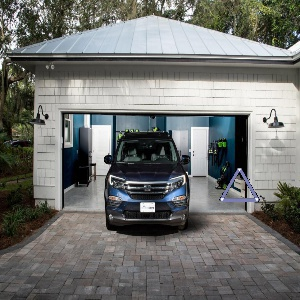triangle: (217, 165, 262, 206)
